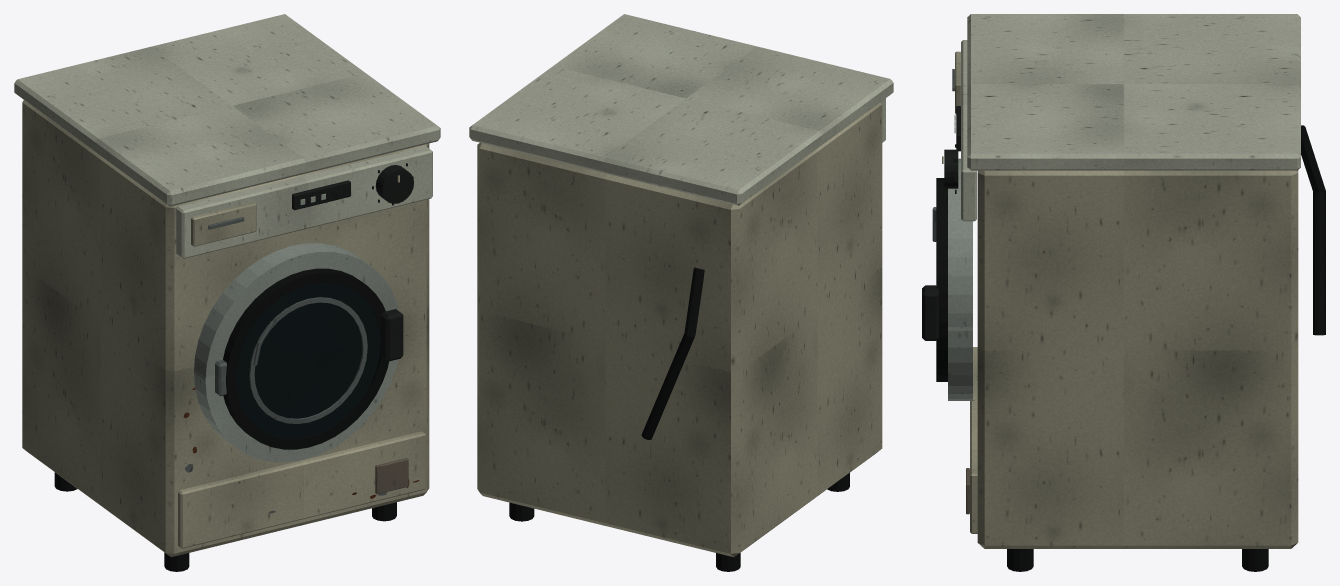
The model's file is front_load_washer.glb.
The picture shows the model from 3 angles, left to right: view 1: azimuth 30°, elevation 25°; view 2: azimuth 150°, elevation 25°; view 3: azimuth 270°, elevation 25°; orthographic projection. The views are drawn at different scales.
Visible parts, largest first — view 1: front_load_washer; view 2: front_load_washer; view 3: front_load_washer.
Part boxes in pixels (<box>): front_load_washer: <box>14,14,440,571</box>; front_load_washer: <box>469,14,893,571</box>; front_load_washer: <box>922,14,1325,571</box>.
Size of the model in its own units: 0.633 by 0.8845 by 0.756.
12 materials, 12 textured.
